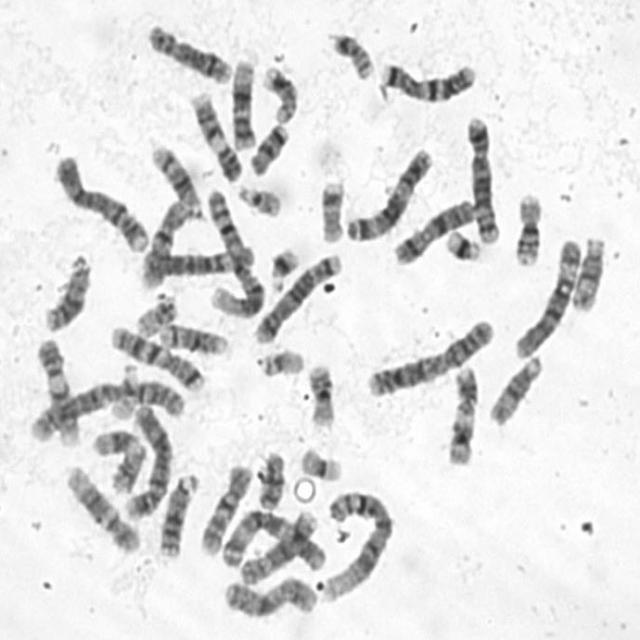A1: (314, 483, 396, 604), (201, 181, 267, 321)
A2: (360, 310, 498, 399), (23, 372, 189, 445)
A3: (340, 141, 436, 243), (216, 502, 327, 574)
B4: (48, 146, 151, 254), (119, 397, 173, 521)
B5: (249, 245, 345, 346), (461, 108, 504, 245)
C10: (194, 457, 255, 558), (135, 192, 193, 291)
C11: (87, 422, 148, 495), (440, 358, 480, 468)
C12: (60, 459, 143, 555), (226, 52, 258, 152)
C6: (508, 230, 584, 361), (136, 238, 258, 288)
C7: (104, 318, 205, 392), (374, 54, 478, 104)
C8: (234, 502, 321, 586), (141, 16, 234, 85)
C9: (32, 330, 84, 448), (184, 84, 245, 183)
D13: (38, 246, 94, 334), (154, 466, 202, 560)
D14: (145, 137, 204, 220), (153, 315, 230, 358)
D15: (484, 348, 544, 427), (567, 228, 608, 313)
E16: (508, 185, 546, 268), (302, 356, 338, 429)
E17: (257, 59, 300, 125), (314, 173, 347, 244)
E18: (244, 116, 291, 176), (252, 444, 288, 511)
F19: (252, 340, 307, 380), (295, 440, 345, 483)
F20: (324, 24, 376, 82), (130, 288, 180, 339)
G21: (264, 239, 302, 293), (441, 222, 484, 263)
G22: (106, 358, 142, 423), (232, 178, 284, 218)
X: (388, 192, 478, 266), (217, 570, 319, 620)
